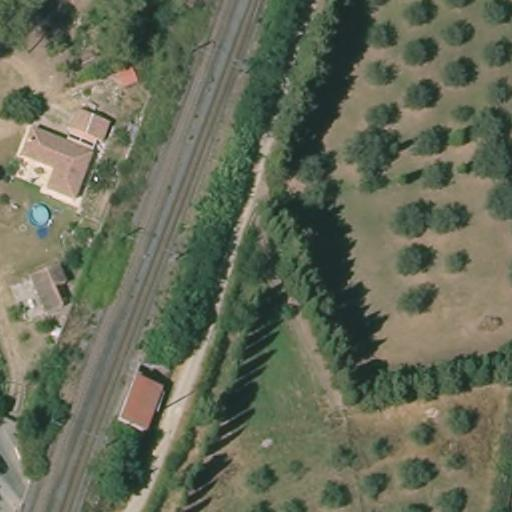pool: (22, 199, 54, 232)
